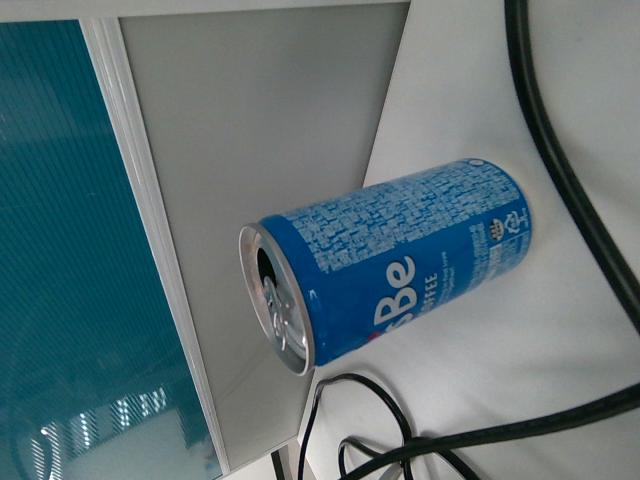letsbe: (237, 156, 533, 376)
